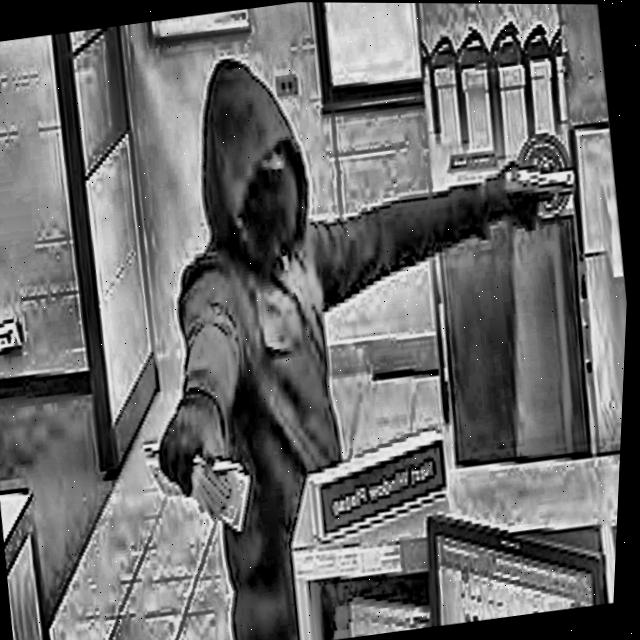robbery: (135, 48, 593, 640)
